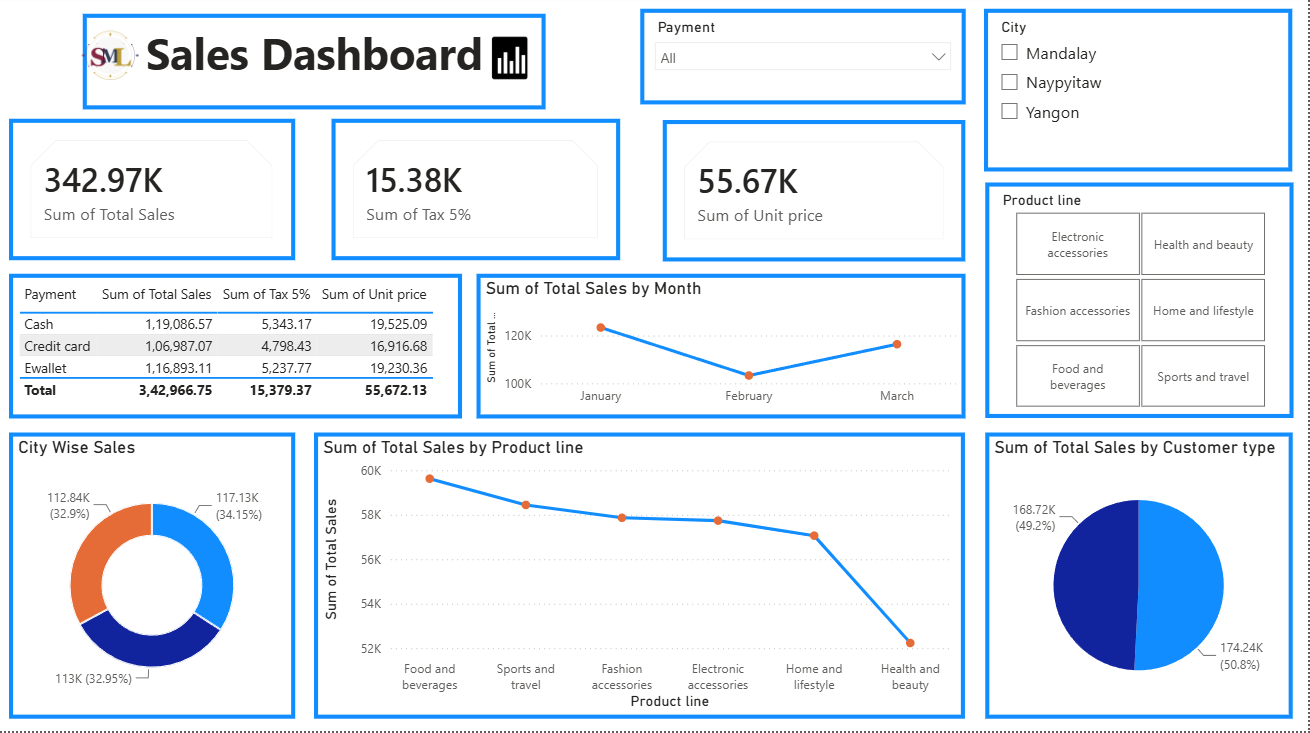

The dashboard page shown, as its layout file describes it:
{"tool":"powerbi","page":{"name":"Page 1","canvas":[1280,720],"ordinal":0},"visuals":[{"type":"donutChart","title":"City Wise Sales","fields":{"Category":["D1.City"],"Y":["Sum(D1.Total Sales)"]},"box":[10,428.6,280,280],"z":0},{"type":"tableEx","fields":{"Values":["D1.Payment","Sum(D1.Total Sales)","Sum(D1.Tax 5%)","Sum(D1.Unit price)"]},"box":[10,272.9,442.9,141.4],"z":1000},{"type":"lineChart","fields":{"Category":["D1.Product line"],"Y":["Sum(D1.Total Sales)"]},"box":[308.6,428.6,637.1,280],"z":2000},{"type":"lineChart","fields":{"Category":["D1.Date.Variation.Date Hierarchy.Month"],"Y":["Sum(D1.Total Sales)"]},"box":[467.1,272.9,478.6,141.4],"z":3000},{"type":"textbox","box":[82.3,17.8,452.8,93.3],"z":4000},{"type":"image","box":[68.6,13.7,81,93.3],"z":5000},{"type":"image","box":[452.8,1.4,94.7,120.8],"z":6000},{"type":"cardVisual","fields":{"Data":["Sum(D1.Total Sales)"]},"box":[9.6,120.8,279.9,138.6],"z":7000},{"type":"cardVisual","fields":{"Data":["Sum(D1.Tax 5%)"]},"box":[325.2,120.8,282.7,138.6],"z":8000},{"type":"cardVisual","fields":{"Data":["Sum(D1.Unit price)"]},"box":[649.1,122.1,296.4,138.6],"z":9000},{"type":"pieChart","fields":{"Category":["D1.Customer type"],"Y":["Sum(D1.Total Sales)"]},"box":[964.7,428.1,300.5,279.9],"z":10000},{"type":"slicer","fields":{"Values":["D1.Product line"]},"box":[964.7,183.9,301.9,230.5],"z":11000},{"type":"slicer","fields":{"Values":["D1.City"]},"box":[963.3,13.7,301.9,159.2],"z":12000},{"type":"slicer","fields":{"Values":["D1.Payment"]},"box":[627.1,13.7,318.4,93.3],"z":13000}]}

Visuals, with their boxes in screenshot pixels (x1, y1, x2, y2), scaled from the page's 1280x720 canvas onto the 1310x733 screenshot:
"City Wise Sales" donutChart: region(10, 436, 297, 721)
tableEx - D1.Payment x Sum(D1.Total Sales): region(10, 278, 464, 422)
lineChart - D1.Product line x Sum(D1.Total Sales): region(316, 436, 968, 721)
lineChart - D1.Date.Variation.Date Hierarchy.Month x Sum(D1.Total Sales): region(478, 278, 968, 422)
textbox: region(84, 18, 548, 113)
image: region(70, 14, 153, 109)
image: region(463, 1, 560, 124)
cardVisual - Sum(D1.Total Sales): region(10, 123, 296, 264)
cardVisual - Sum(D1.Tax 5%): region(333, 123, 622, 264)
cardVisual - Sum(D1.Unit price): region(664, 124, 968, 265)
pieChart - D1.Customer type x Sum(D1.Total Sales): region(987, 436, 1295, 721)
slicer - D1.Product line: region(987, 187, 1296, 422)
slicer - D1.City: region(986, 14, 1295, 176)
slicer - D1.Payment: region(642, 14, 968, 109)
